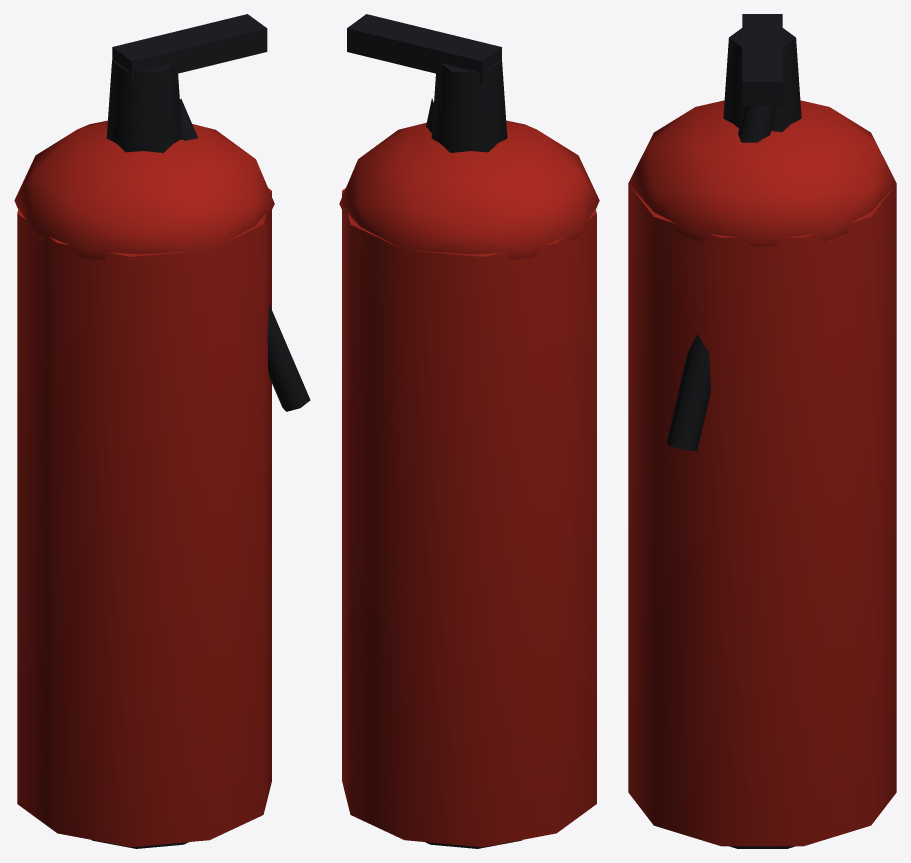
Rendered from extintor.glb.
The picture shows the model from 3 angles, left to right: view 1: azimuth 30°, elevation 25°; view 2: azimuth 150°, elevation 25°; view 3: azimuth 270°, elevation 25°; orthographic projection. The views are drawn at different scales.
Parts seen in each view (by area): view 1: extintor_liso; view 2: extintor_liso; view 3: extintor_liso.
Part boxes in pixels (x1=…): extintor_liso: x1=14, y1=14, x2=310, y2=848; extintor_liso: x1=339, y1=14, x2=599, y2=848; extintor_liso: x1=628, y1=14, x2=896, y2=848.
Bounding box in the file's own units: 0.2111 × 0.65 × 0.2.
